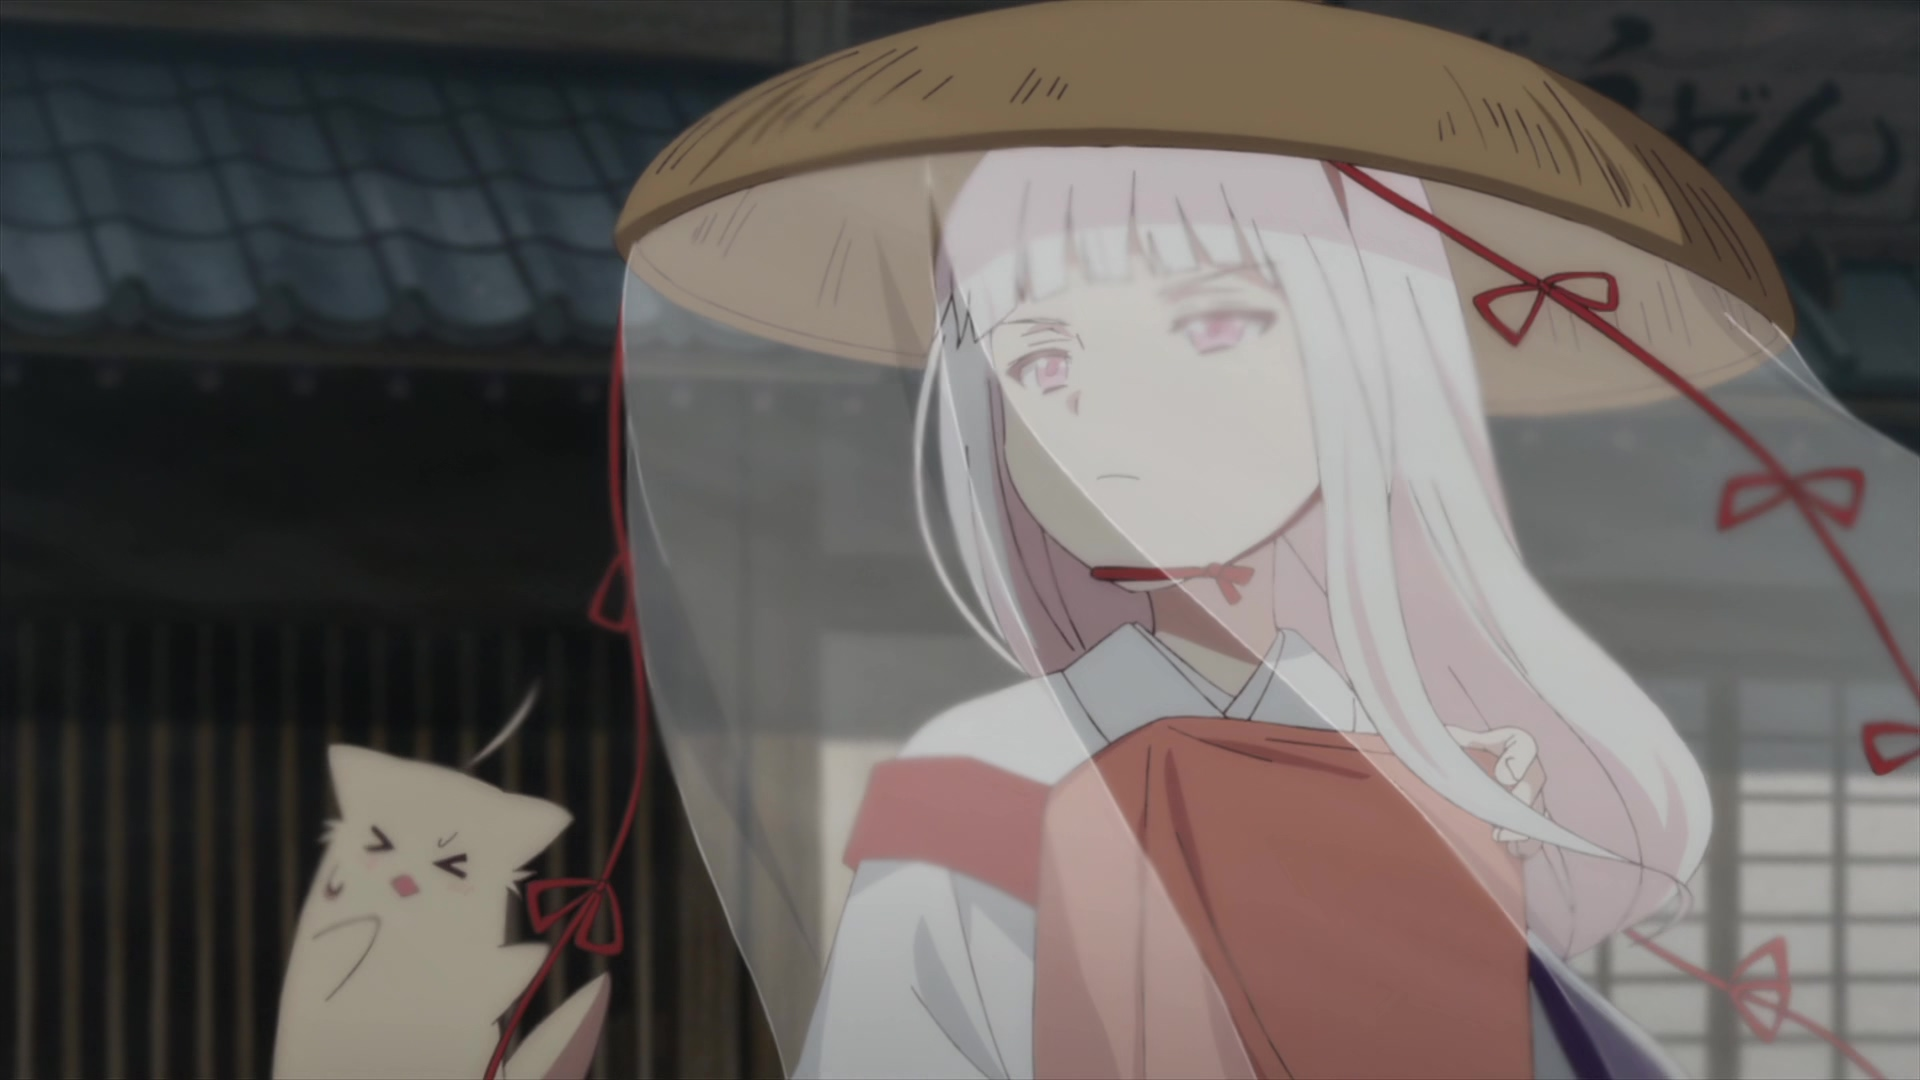其他: (497, 1, 1920, 1080)
柚: (273, 687, 609, 1080)
